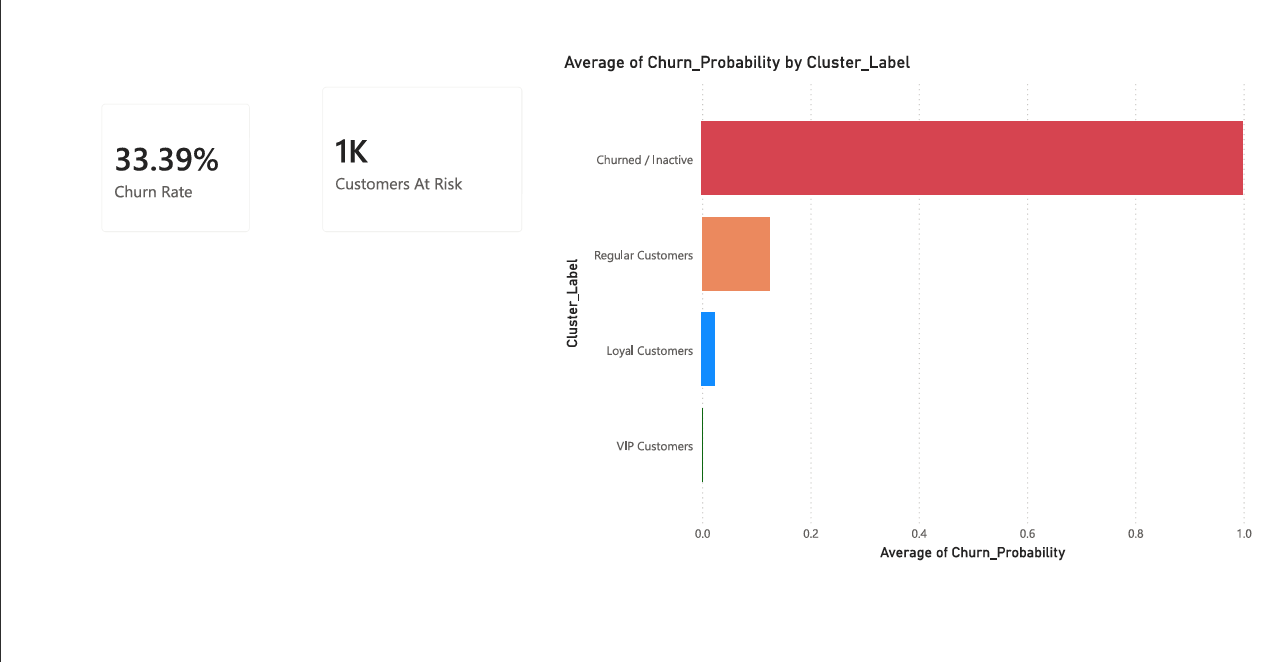

The page's visual inventory and layout, read from the dashboard file:
{"tool":"powerbi","page":{"name":"Page 3","canvas":[1280,720],"ordinal":2},"visuals":[{"type":"cardVisual","fields":{"Data":["public customer_churn_model.Churn Rate"]},"box":[60,106.7,183.3,163.3],"z":0},{"type":"cardVisual","fields":{"Data":["public customer_churn_model.Customers At Risk"]},"box":[281.7,90,235,180],"z":1},{"type":"barChart","fields":{"Category":["public customer_churn_model.Cluster_Label"],"Y":["Avg(public customer_churn_model.Churn_Probability)"]},"box":[536.7,71.7,701.7,516.7],"z":2}]}

Visuals, with their boxes on the page's 1280x720 design canvas (x1, y1, x2, y2). These are canvas units, not pixel positions in the 1286x662 screenshot, which may show the page scaled, cropped or inside an application window:
cardVisual - public customer_churn_model.Churn Rate: bbox=(60, 107, 243, 270)
cardVisual - public customer_churn_model.Customers At Risk: bbox=(282, 90, 517, 270)
barChart - public customer_churn_model.Cluster_Label x Avg(public customer_churn_model.Churn_Probability): bbox=(537, 72, 1238, 588)
